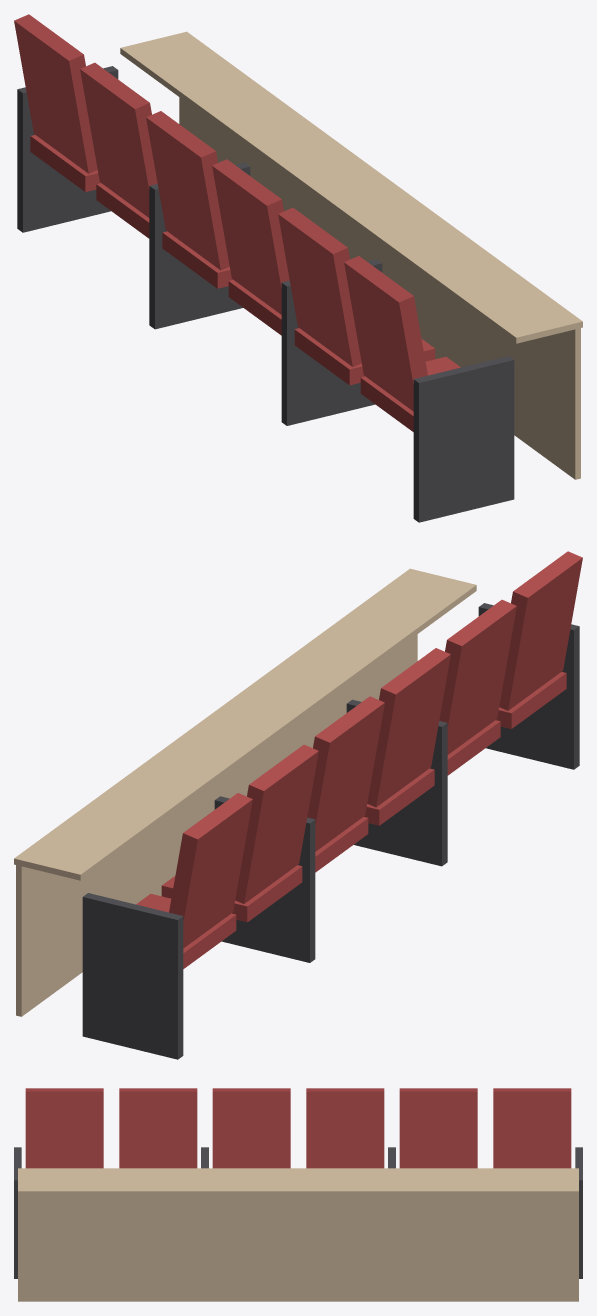
File: SM_Prop_LectureSeats.glb
3 renders of one model, top to bottom at view 1: azimuth 30°, elevation 25°; view 2: azimuth 150°, elevation 25°; view 3: azimuth 270°, elevation 25°, orthographic. The views are drawn at different scales.
Parts seen in each view (by area): view 1: SM_Prop_LectureSeats; view 2: SM_Prop_LectureSeats; view 3: SM_Prop_LectureSeats.
Part boxes in pixels (bbox=[...]): SM_Prop_LectureSeats: bbox=[14, 14, 582, 522]; SM_Prop_LectureSeats: bbox=[14, 551, 582, 1059]; SM_Prop_LectureSeats: bbox=[14, 1088, 582, 1301].
Size of the model in its own units: 0.9365 by 1.1 by 3.65.
